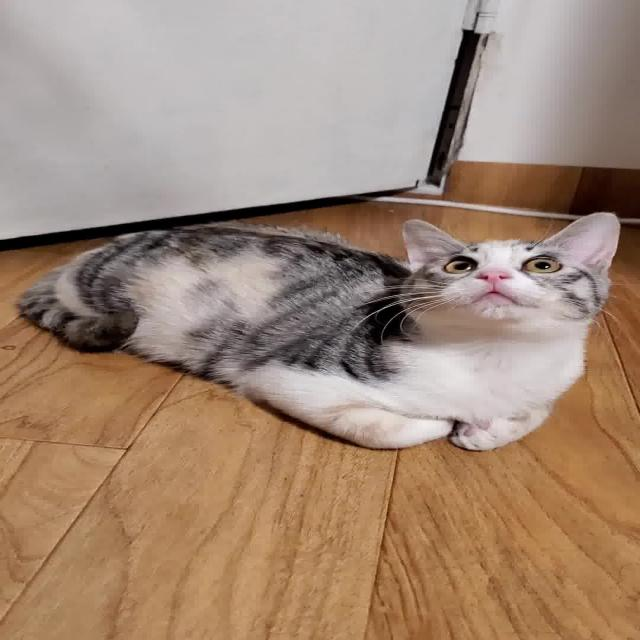cat: (10, 204, 640, 458)
